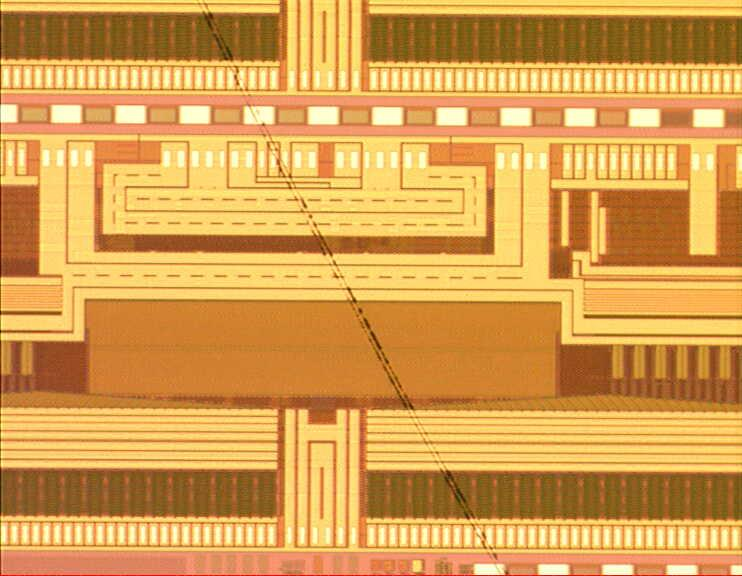SCRATCH: (193, 1, 515, 576)
